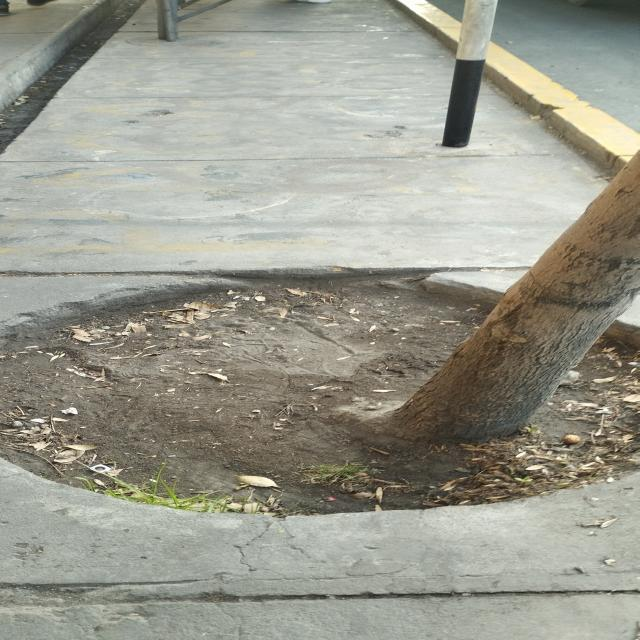hole: (0, 269, 640, 526)
